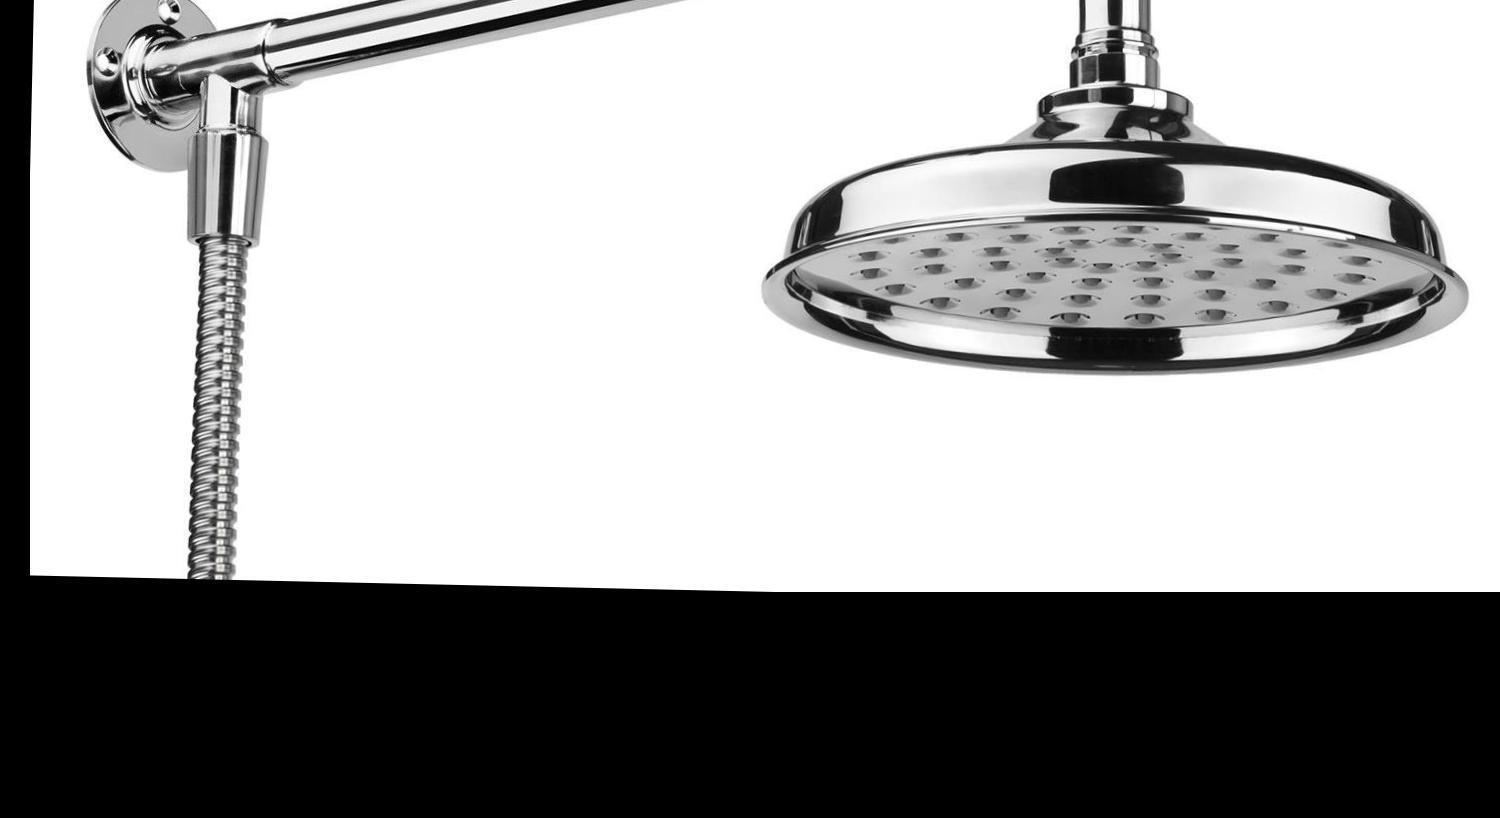Ducha: (90, 0, 1470, 606)
